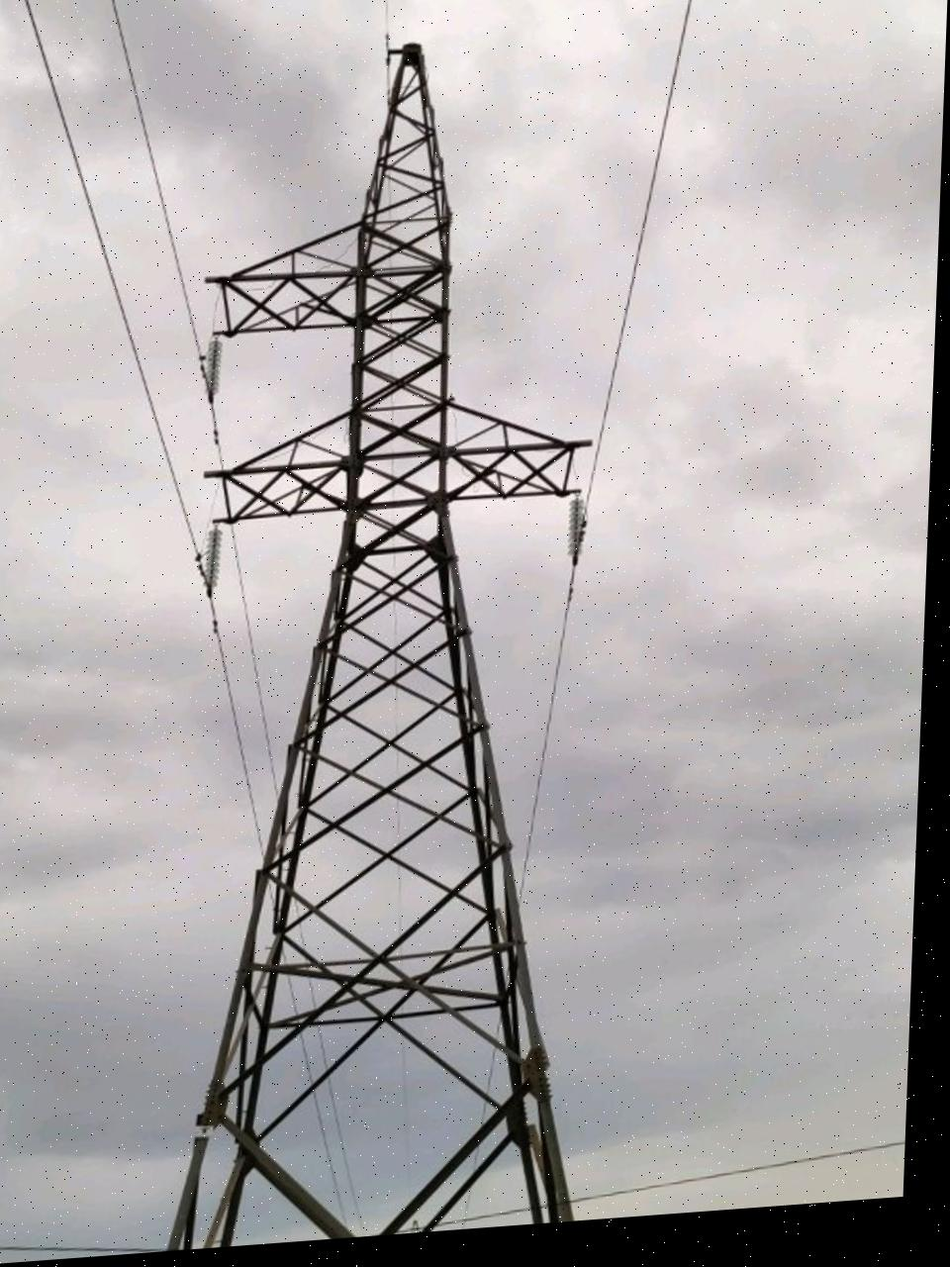tower: (133, 12, 638, 1251)
